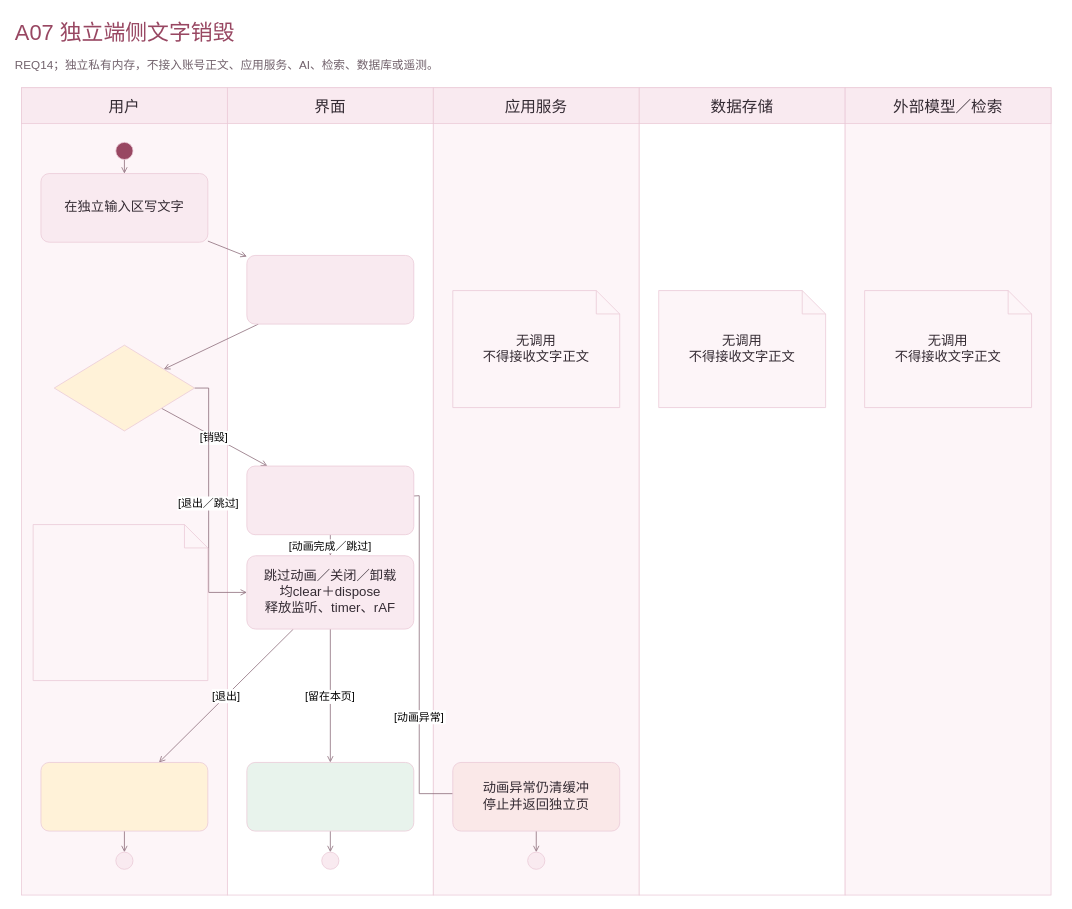
The diagram is 1072 pixels wide and 909 high, and some of its shapes have lost their labels. The shapes that lost their labels are listed below. From the top down, each one's centre as x and y in pixels, then its label:
[330,289]: setBuffer：仅本页私有内存 不复用共享正文状态
[124,387]: 销毁或退出？
[330,500]: destroy：先清正文缓冲 再演示焚化／黑洞动画
[120,602]: 界面承诺限定为本功能不发送、不保存。 不宣称操作系统级绝对无痕或可审计远程销毁。
[124,796]: 返回／退出同样清空 取消动画不恢复正文
[330,796]: 正文从当前界面清空 可重新开始
